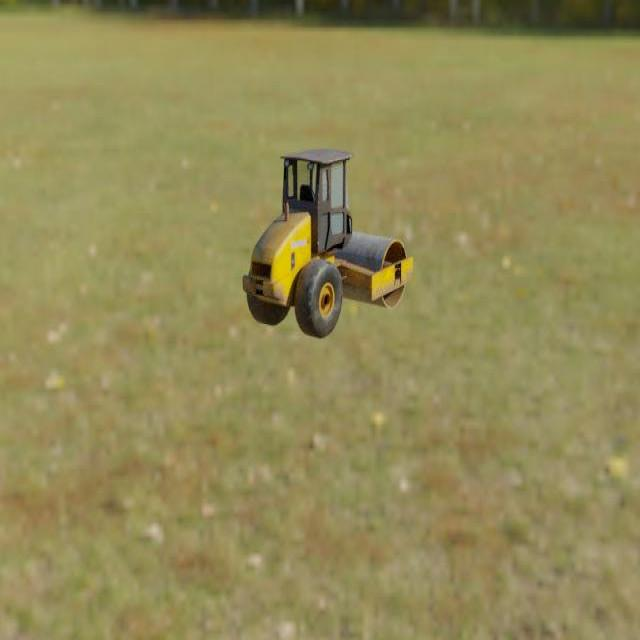Roller: (241, 146, 413, 338)
